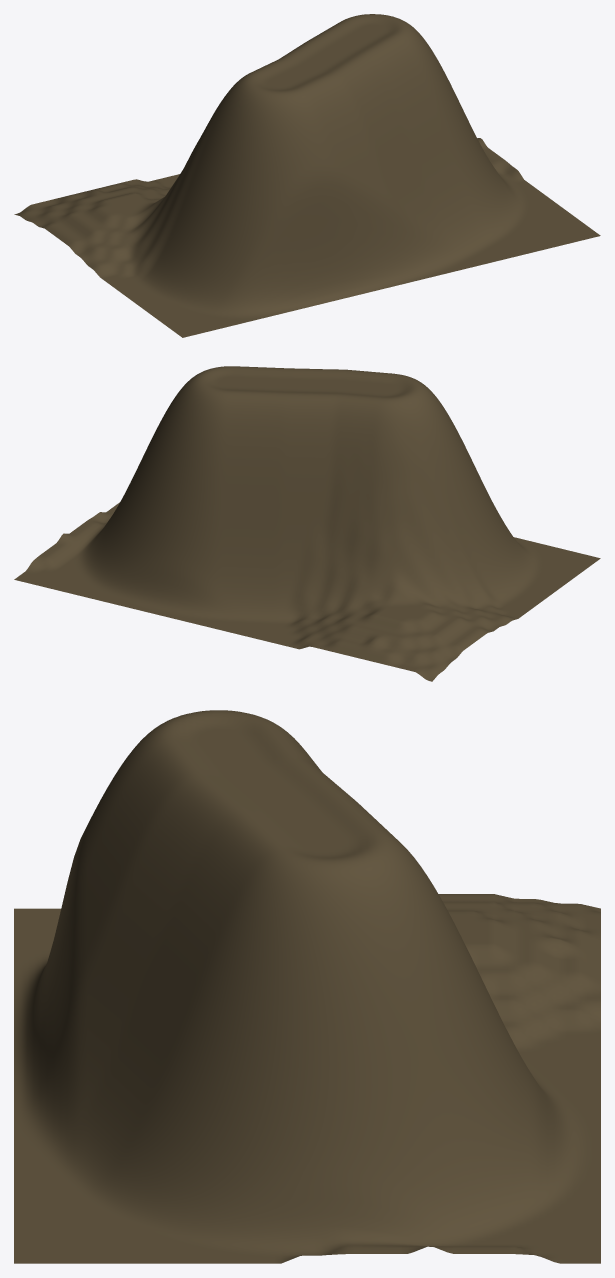
The model's file is source_hill.glb.
The picture shows the model from 3 angles, top to bottom: view 1: azimuth 30°, elevation 25°; view 2: azimuth 150°, elevation 25°; view 3: azimuth 270°, elevation 25°; orthographic projection. The views are drawn at different scales.
Visible parts, largest first — view 1: Smooth source hill; view 2: Smooth source hill; view 3: Smooth source hill.
Part boxes in pixels (bbox=[...]): Smooth source hill: bbox=[14, 14, 600, 337]; Smooth source hill: bbox=[14, 366, 600, 681]; Smooth source hill: bbox=[14, 710, 600, 1263].
Bounding box in the file's own units: 10080 × 4066 × 7040.
